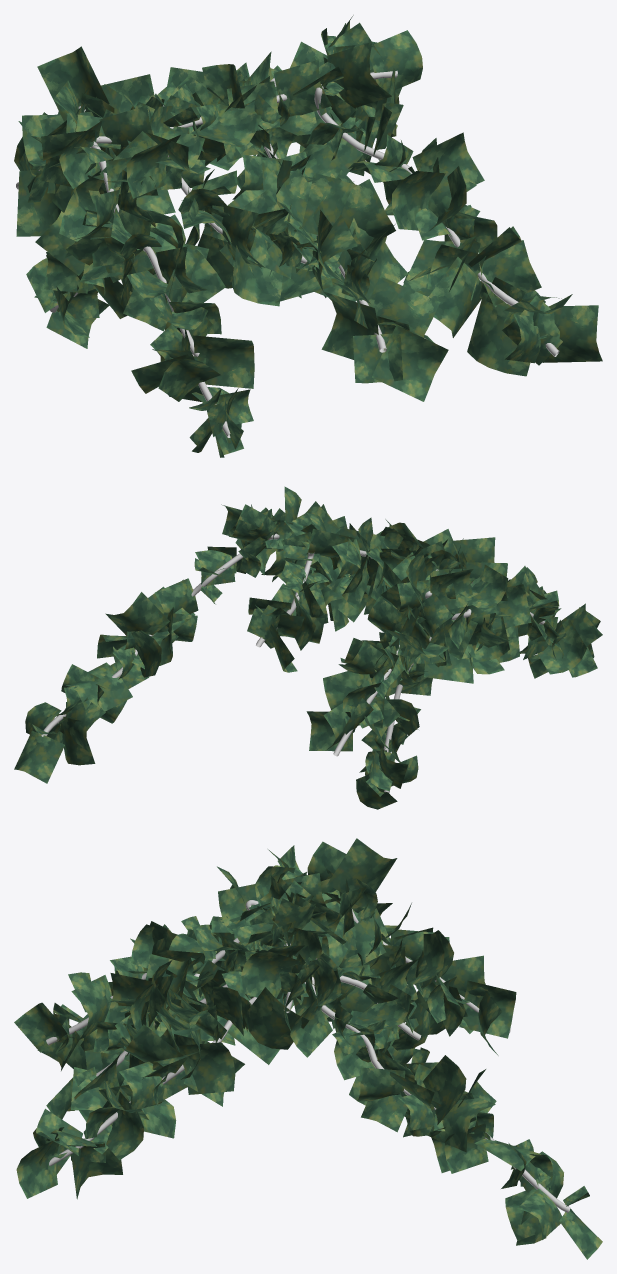
File: SM_Ivy_04.fbx
The picture shows the model from 3 angles, top to bottom: view 1: azimuth 30°, elevation 25°; view 2: azimuth 150°, elevation 25°; view 3: azimuth 270°, elevation 25°; orthographic projection. The views are drawn at different scales.
Parts seen in each view (by area): view 1: SM_Ivy_04_LOD0; view 2: SM_Ivy_04_LOD0; view 3: SM_Ivy_04_LOD0.
Part boxes in pixels (x1,y1,x2,y2): SM_Ivy_04_LOD0: (14, 15, 602, 457); SM_Ivy_04_LOD0: (14, 486, 602, 809); SM_Ivy_04_LOD0: (14, 838, 602, 1259).
Size of the model in its own units: 152 by 180 by 96.26.
2 materials, 1 textured.
